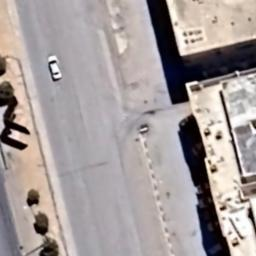sedan: (46, 52, 64, 86)
